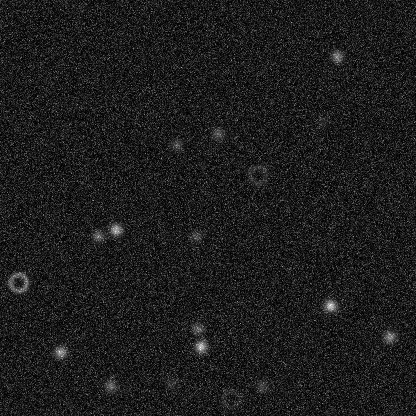Ring: (6, 270, 30, 294), (245, 162, 269, 186), (219, 386, 243, 410)
Spot: (163, 374, 179, 390), (188, 228, 204, 244), (189, 320, 205, 336), (254, 377, 270, 393), (102, 377, 118, 393), (107, 221, 123, 237), (52, 343, 68, 359), (381, 328, 397, 344), (168, 136, 184, 152), (322, 297, 338, 313), (328, 48, 344, 64), (192, 338, 208, 354), (89, 227, 105, 243), (314, 113, 330, 129), (209, 125, 225, 141)
